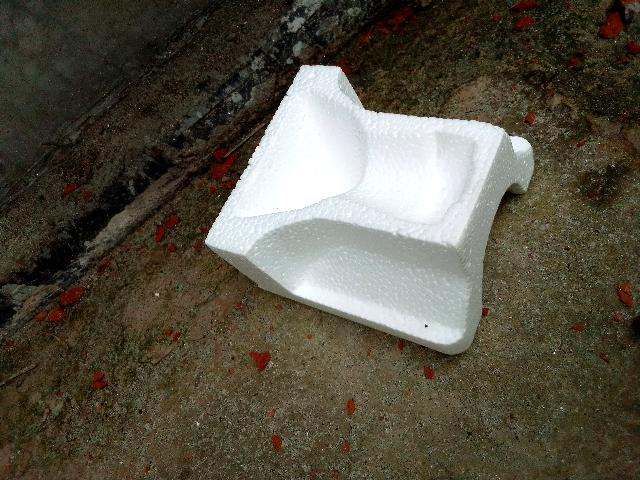cocksheet: (183, 29, 575, 372)
